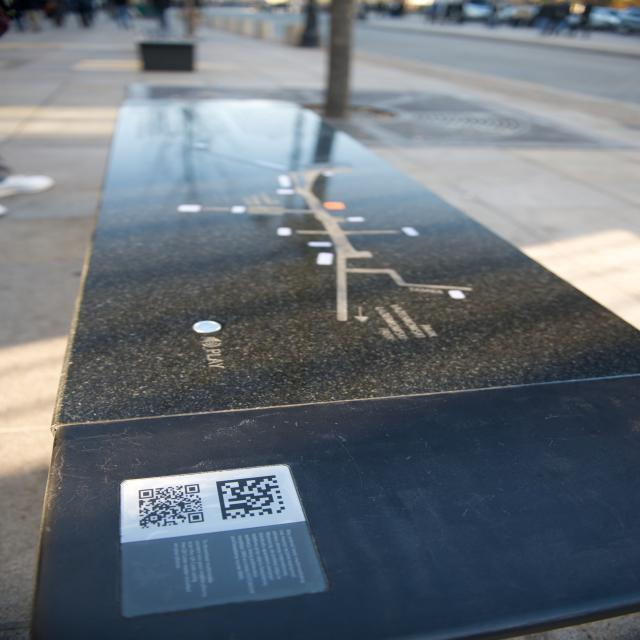qr-code: (139, 484, 204, 529)
